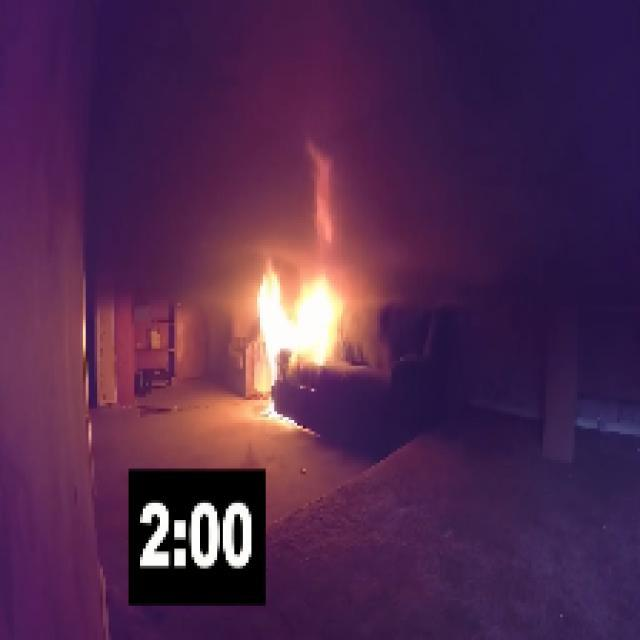Fire: (260, 271, 337, 423), (306, 138, 343, 252)
Smoke: (394, 15, 603, 272), (83, 15, 246, 292)
